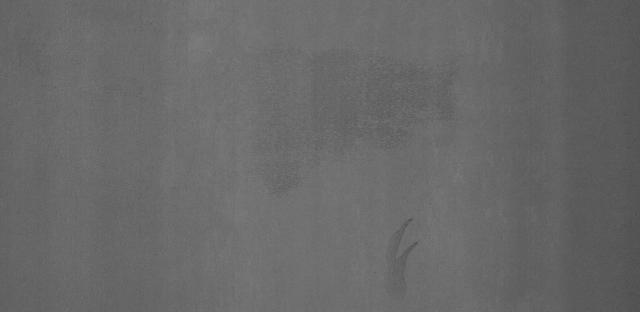water_spot: (382, 212, 429, 290)
